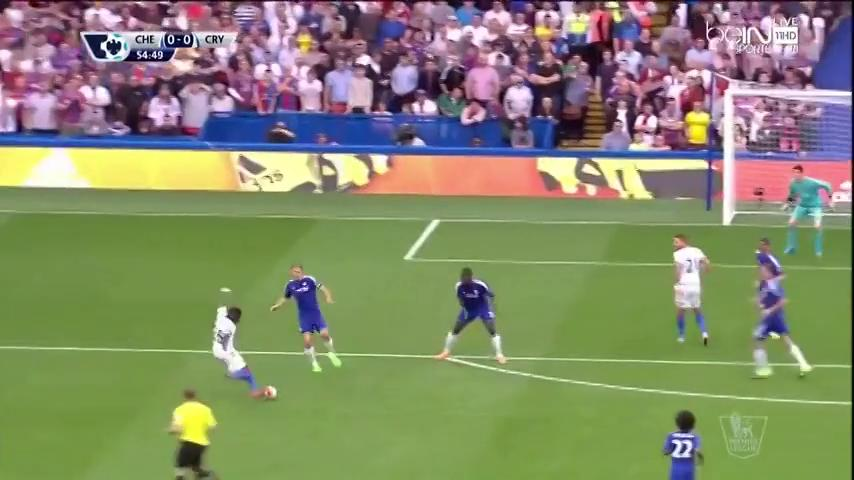football: (264, 384, 277, 400)
